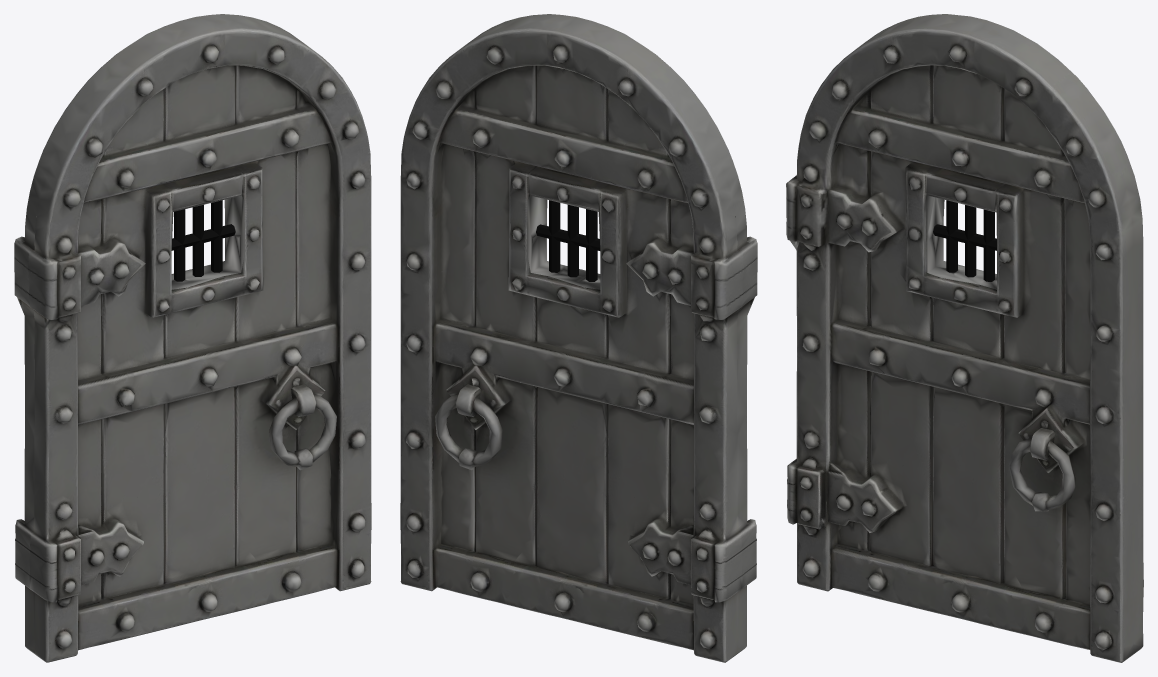
File: Door_Metal.fbx
The picture shows the model from 3 angles, left to right: view 1: azimuth 30°, elevation 25°; view 2: azimuth 150°, elevation 25°; view 3: azimuth 330°, elevation 25°; orthographic projection.
Parts seen in each view (by area): view 1: Door_Metal; view 2: Door_Metal; view 3: Door_Metal.
Boxes of the visible parts, x1,y1,x2,y2 form: Door_Metal: (14,14,371,662); Door_Metal: (400,14,757,662); Door_Metal: (786,14,1143,662).
Size of the model in its own units: 134 by 226 by 32.48.
1 material, 1 textured.
